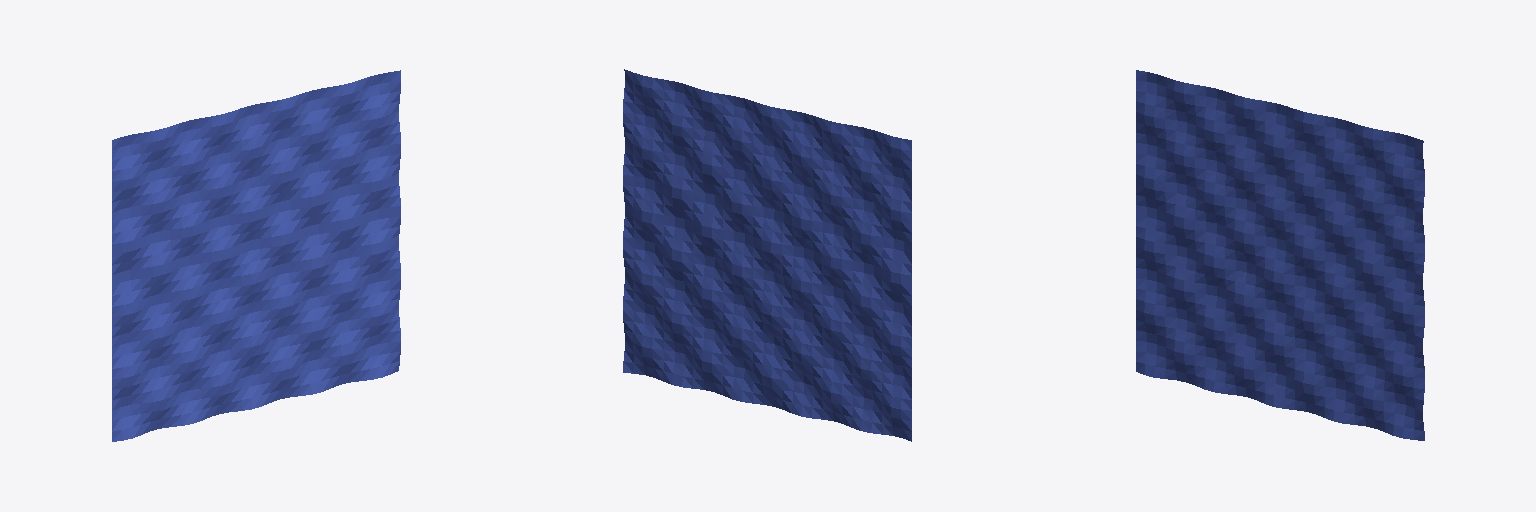
Rendered from terrain_1.obj.
3 renders of one model, left to right at view 1: azimuth 30°, elevation 25°; view 2: azimuth 150°, elevation 25°; view 3: azimuth 330°, elevation 25°, orthographic.
Visible parts, largest first — view 1: Terrain; view 2: Terrain; view 3: Terrain.
Part boxes in pixels (bbox=[...]): Terrain: bbox=[112, 70, 400, 441]; Terrain: bbox=[623, 69, 911, 441]; Terrain: bbox=[1136, 70, 1424, 440].
Bounding box in the file's own units: 29 × 29 × 0.5999.